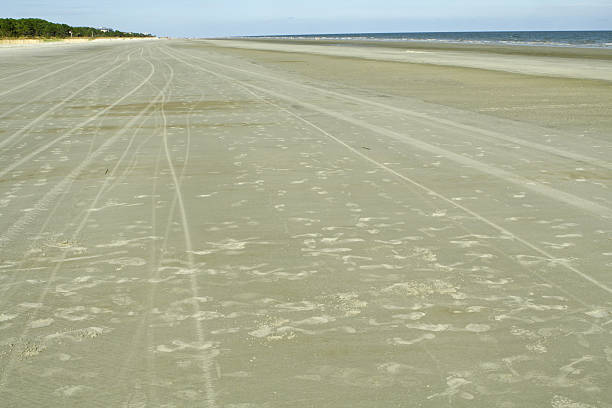vehicle_track: (277, 105, 611, 293), (245, 83, 611, 219), (189, 56, 611, 168), (10, 64, 154, 168), (117, 145, 168, 406), (0, 52, 132, 147), (177, 59, 334, 137), (149, 91, 193, 280), (67, 92, 161, 177), (0, 54, 122, 118), (161, 103, 194, 269), (0, 55, 98, 96), (101, 117, 153, 193), (0, 55, 73, 81)
